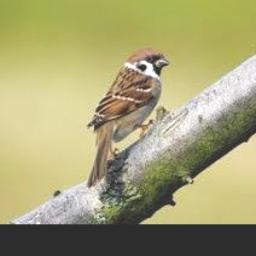Sparrow: (87, 49, 169, 187)
